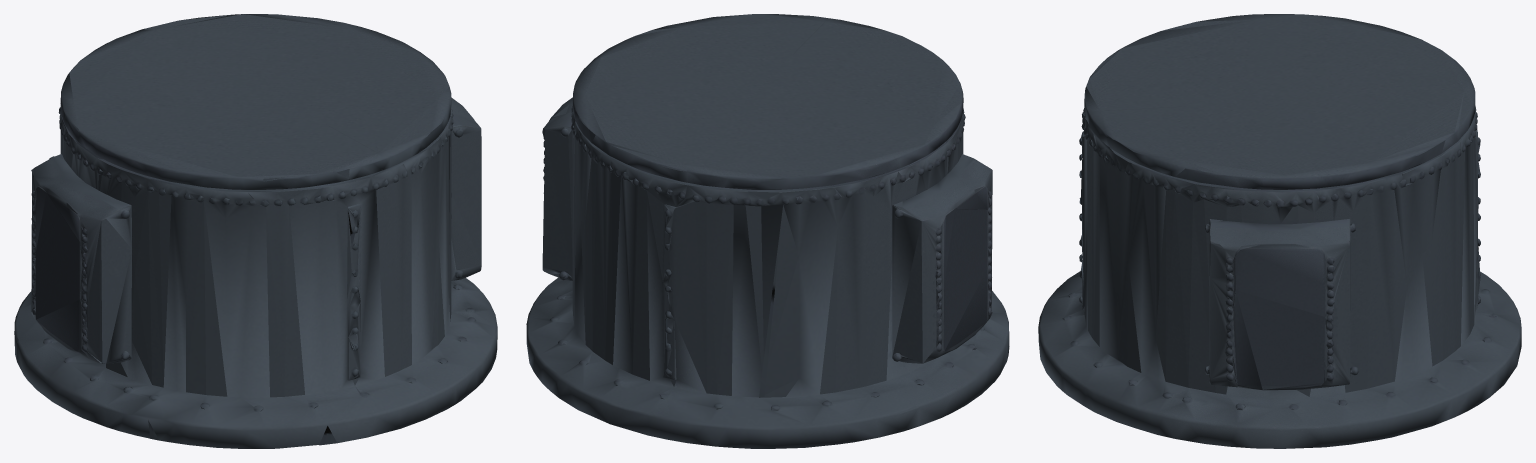
The model's file is Promontoire.fbx.
3 views of the same model, side by side, from view 1: azimuth 30°, elevation 25°; view 2: azimuth 150°, elevation 25°; view 3: azimuth 270°, elevation 25° (orthographic).
Visible parts, largest first — view 1: output_unwrapped; view 2: output_unwrapped; view 3: output_unwrapped.
Boxes of the visible parts, box(x1,y1,x2,y2) form: output_unwrapped: box(14, 14, 497, 448); output_unwrapped: box(526, 14, 1009, 448); output_unwrapped: box(1038, 14, 1521, 448).
Size of the model in its own units: 190 by 109 by 190.
Materials: 1 (1 with a texture image).
